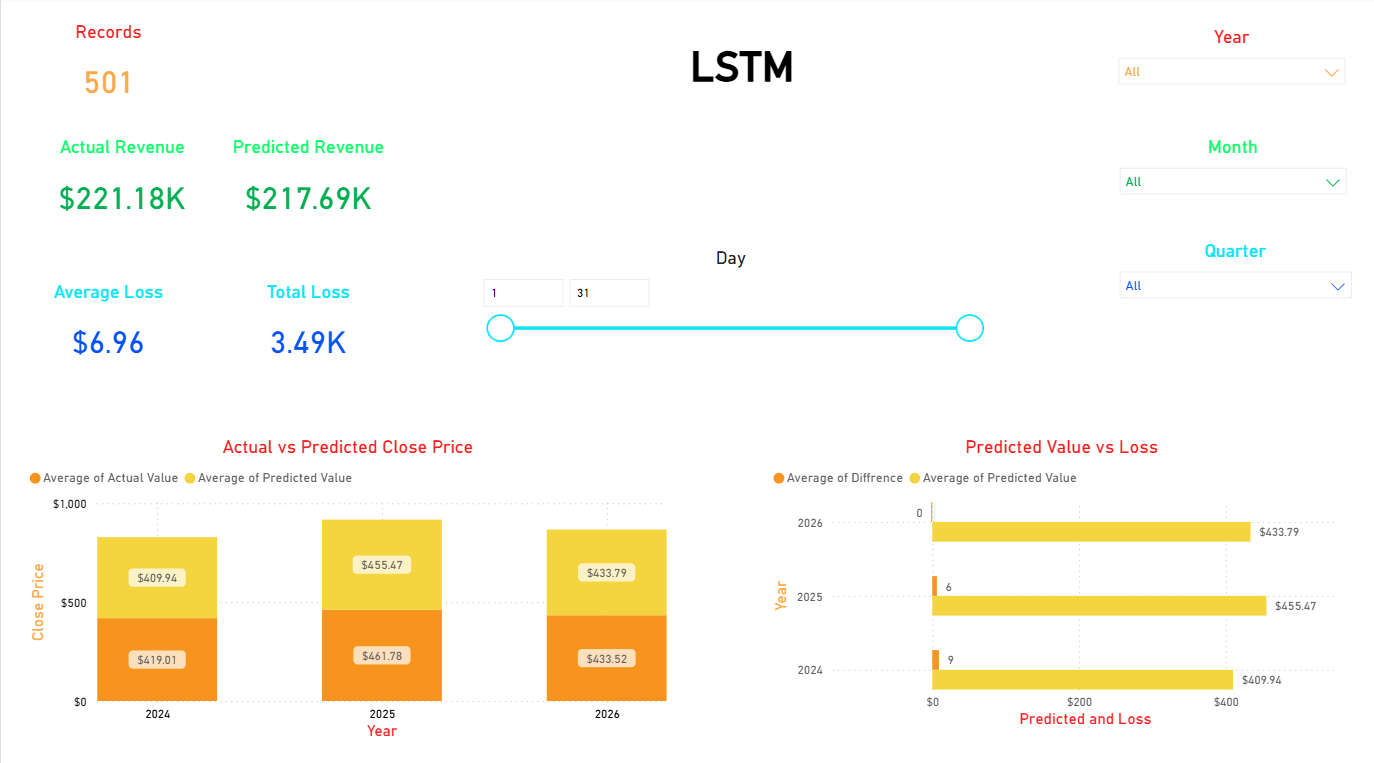

The page's visual inventory and layout, read from the dashboard file:
{"tool":"powerbi","page":{"name":"LSTM","canvas":[1280,720],"ordinal":1},"visuals":[{"type":"card","title":"Records","fields":{"Values":["CountNonNull(LSRM_predictions.Index)"]},"box":[30.2,23.3,139.5,90.7],"z":0},{"type":"slicer","title":"Day","fields":{"Values":["LSRM_predictions.Date.Variation.Date Hierarchy.Day"]},"box":[436,233.7,486,115.1],"z":1000},{"type":"slicer","title":"Year","fields":{"Values":["LSRM_predictions.Date.Variation.Date Hierarchy.Year"]},"box":[1029.1,27.9,231.4,80.2],"z":2000},{"type":"slicer","title":"Month","fields":{"Values":["LSRM_predictions.Date.Variation.Date Hierarchy.Month"]},"box":[1030.2,130.2,231.4,80.2],"z":3000},{"type":"slicer","title":"Quarter","fields":{"Values":["LSRM_predictions.Date.Variation.Date Hierarchy.Quarter"]},"box":[1030.2,226.7,236,75.6],"z":4000},{"type":"lineStackedColumnComboChart","title":"Actual vs Predicted Close Price","fields":{"Category":["LSRM_predictions.Date.Variation.Date Hierarchy.Year","LSRM_predictions.Date.Variation.Date Hierarchy.Month"],"Y":["Avg(LSRM_predictions.Actual Value)","Avg(LSRM_predictions.Predicted Value)"]},"box":[20.9,409.3,603.5,287.2],"z":5000},{"type":"card","title":"Total Loss","fields":{"Values":["Sum(LSRM_predictions.Diffrence)"]},"box":[216.3,265.1,139.5,90.7],"z":6000},{"type":"card","title":"Average Loss","fields":{"Values":["Avg(LSRM_predictions.Diffrence)"]},"box":[30.2,265.1,139.5,90.7],"z":7000},{"type":"clusteredBarChart","title":"Predicted Value vs Loss","fields":{"Category":["LSRM_predictions.Date.Variation.Date Hierarchy.Year","LSRM_predictions.Date.Variation.Date Hierarchy.Month"],"Y":["Avg(LSRM_predictions.Diffrence)","Avg(LSRM_predictions.Predicted Value)"]},"box":[712.8,409.3,547.7,275.6],"z":8000},{"type":"card","title":"Actual Revenue","fields":{"Values":["Sum(LSRM_predictions.Actual Value)"]},"box":[30.2,130.2,165.1,93],"z":9000},{"type":"card","title":"Predicted Revenue","fields":{"Values":["Sum(LSRM_predictions.Predicted Value)"]},"box":[203.5,130.2,165.1,93],"z":10000},{"type":"textbox","box":[539.5,38.4,300,91.9],"z":11000}]}

Visuals, with their boxes in screenshot pixels (x1, y1, x2, y2), scaled from the page's 1280x720 canvas onto the 1374x763 screenshot:
"Records" card: 32 25 182 121
"Day" slicer: 468 248 990 370
"Year" slicer: 1105 30 1353 115
"Month" slicer: 1106 138 1354 223
"Quarter" slicer: 1106 240 1359 320
"Actual vs Predicted Close Price" lineStackedColumnComboChart: 22 434 670 738
"Total Loss" card: 232 281 382 377
"Average Loss" card: 32 281 182 377
"Predicted Value vs Loss" clusteredBarChart: 765 434 1353 726
"Actual Revenue" card: 32 138 210 237
"Predicted Revenue" card: 218 138 396 237
textbox: 579 41 901 138
